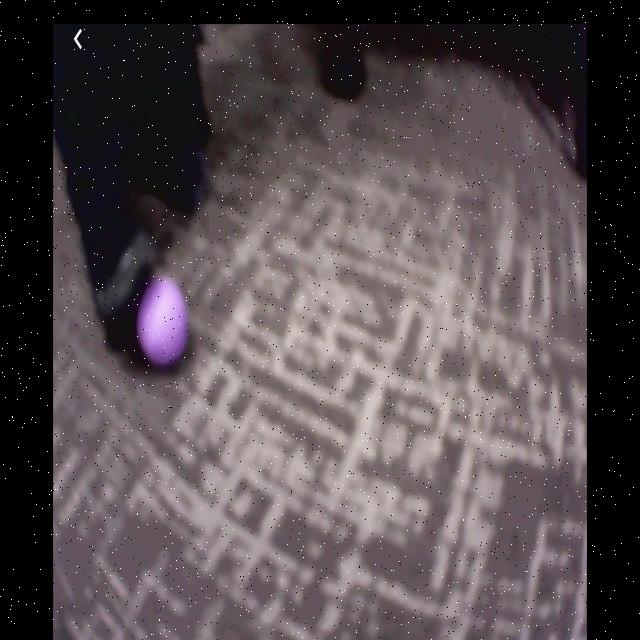ball: (135, 273, 189, 369)
